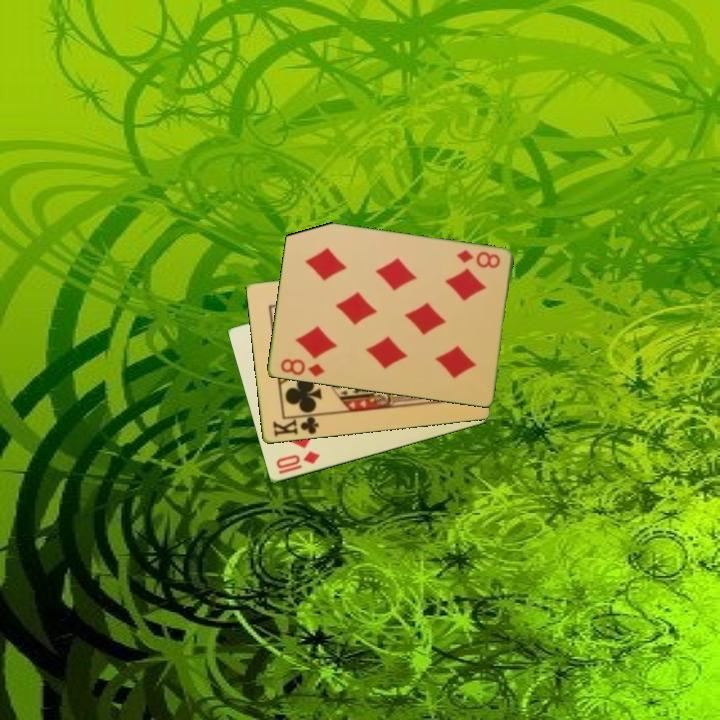10d: (272, 448, 322, 477)
8d: (277, 355, 327, 380), (453, 247, 503, 271)
Kc: (269, 411, 322, 439)
